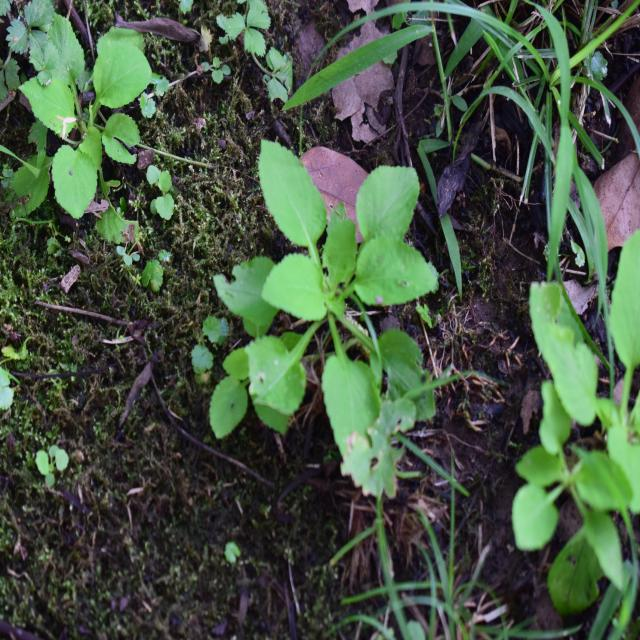Viola: (229, 130, 447, 448), (15, 40, 191, 229)
